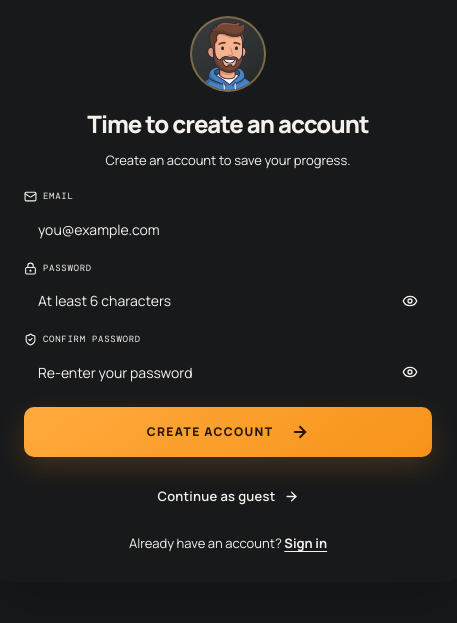
sign-up › tells the user the email is taken (an error code)
The width and height of the screenshot is (457, 623).
Type "new@example.com" into the field with placeholder "you@example.com". click: (228, 229)
box: [24,209,432,250]
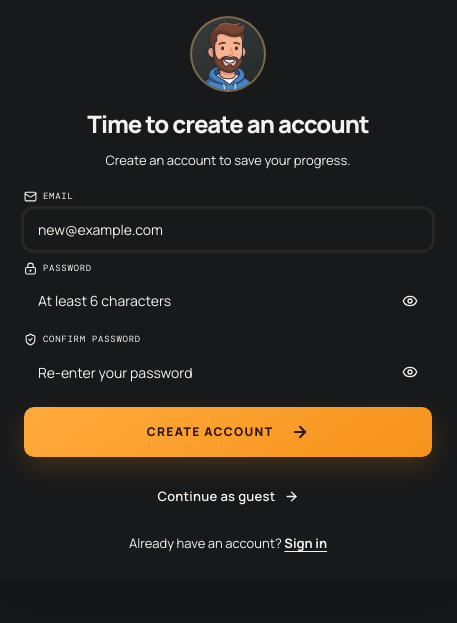
Type "abcdef" into the password field with placeholder "At least 6 characters". click: (228, 301)
box: [24,280,432,321]
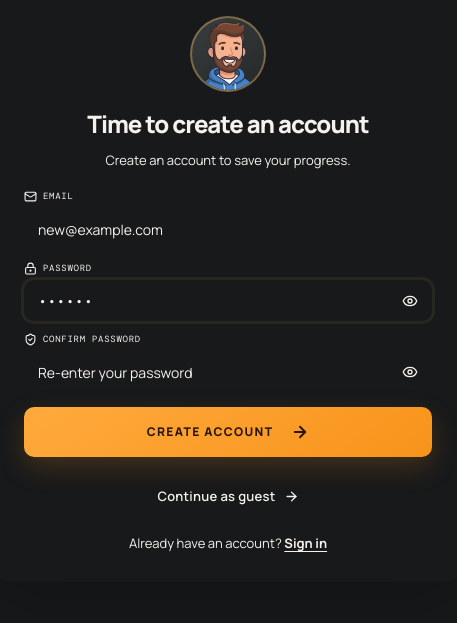
Type "abcdef" into the password field with placeholder "Re-enter your password". click: (228, 372)
box: [24,352,432,393]
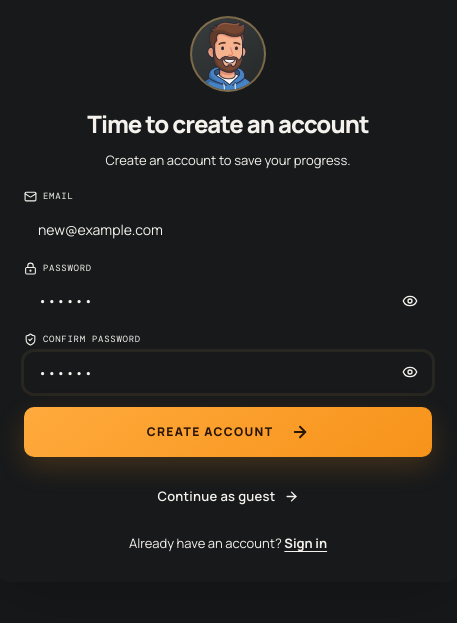
Click the button "Create account". click: (228, 432)
box: [24,407,432,457]
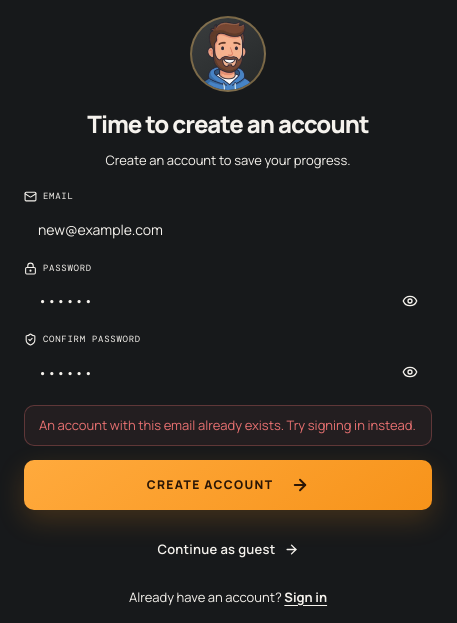
Now the text "An account with this email already exists. Try signing in instead." is shown, box [24,405,432,446]
